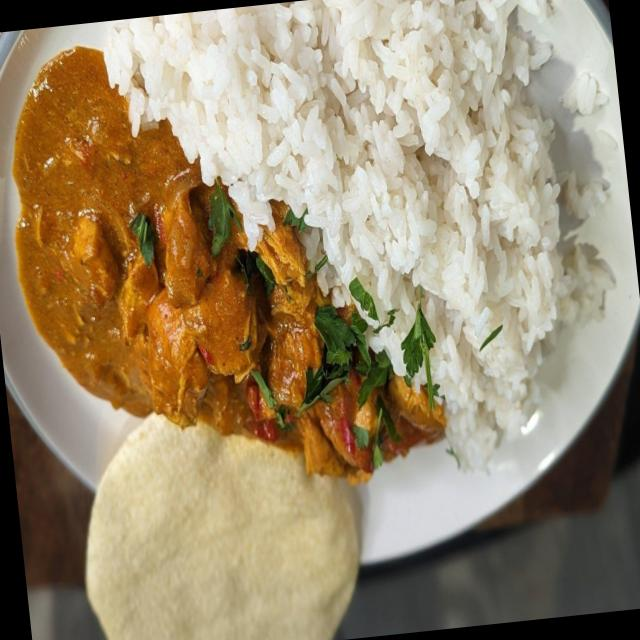chicken: (0, 157, 306, 528)
rice: (324, 2, 592, 392)
